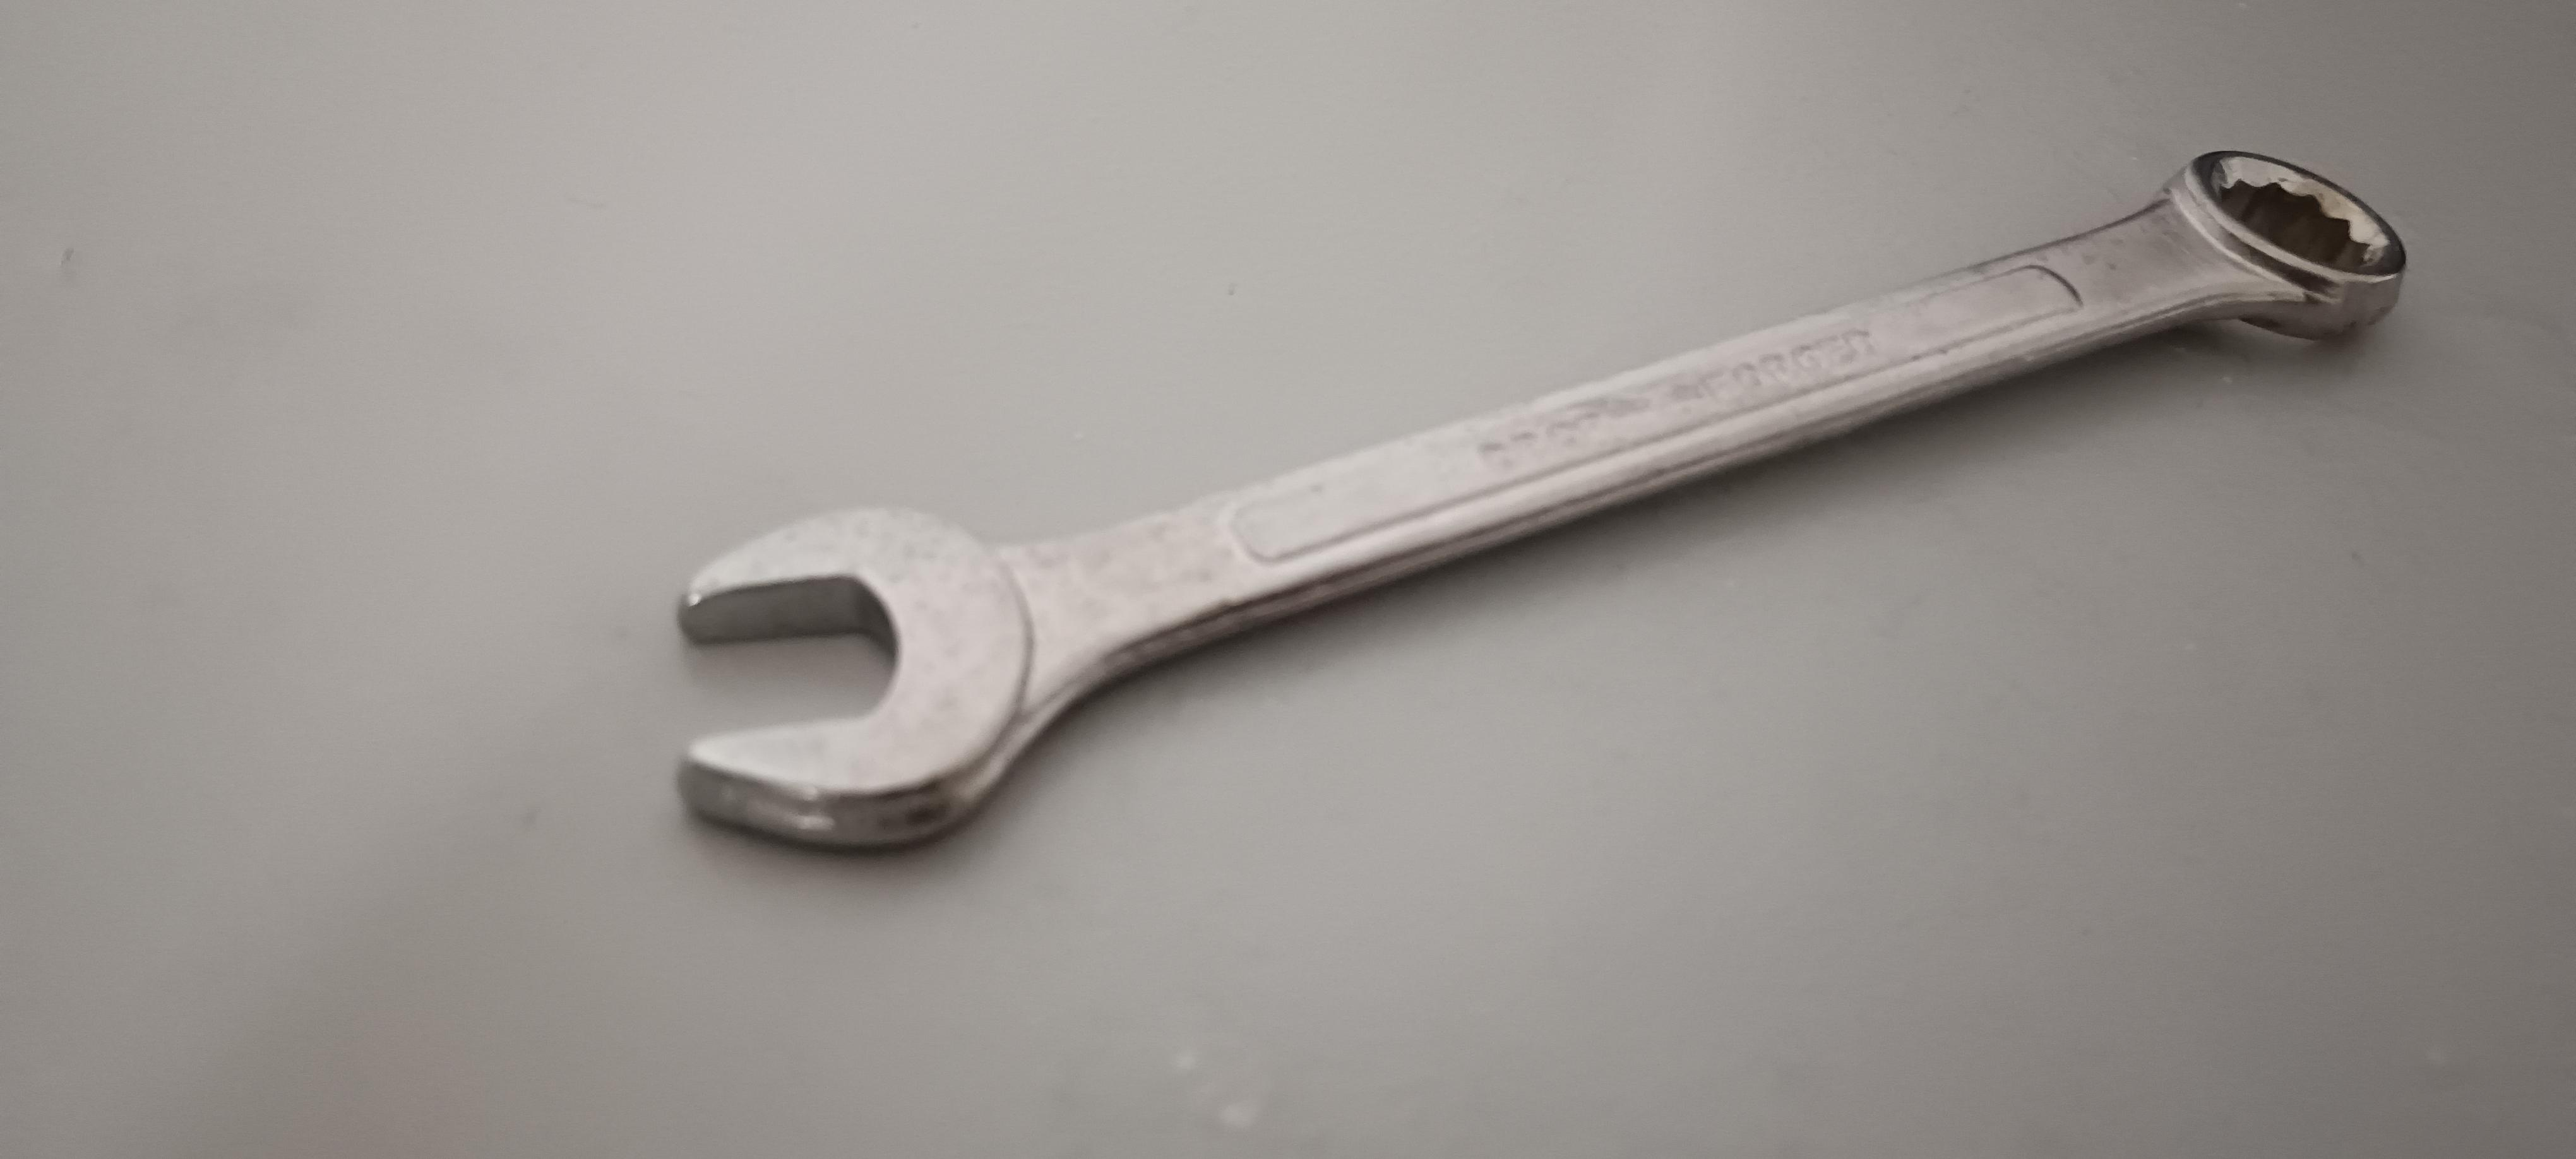Spanners: (665, 102, 2438, 896)
